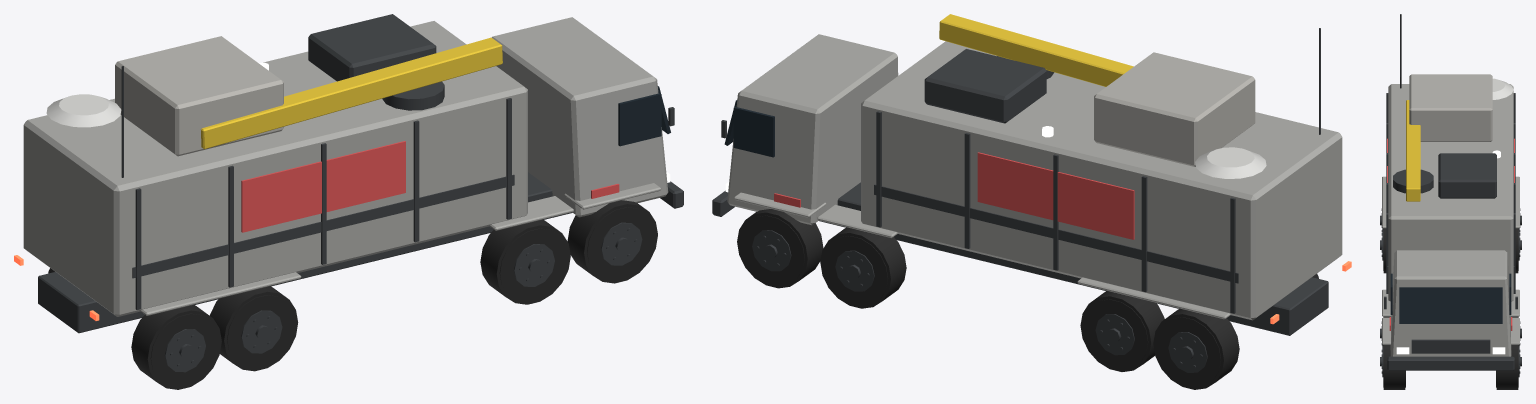
The model's file is mcv.glb.
3 renders of one model, left to right at view 1: azimuth 30°, elevation 25°; view 2: azimuth 150°, elevation 25°; view 3: azimuth 270°, elevation 25°, orthographic. The views are drawn at different scales.
Parts seen in each view (by area): view 1: Hull; view 2: Hull; view 3: Hull.
Part boxes in pixels (x1=…): Hull: x1=14, y1=14, x2=683, y2=389; Hull: x1=712, y1=14, x2=1351, y2=389; Hull: x1=1380, y1=14, x2=1521, y2=389.
Size of the model in its own units: 10.67 by 5.69 by 3.39.
